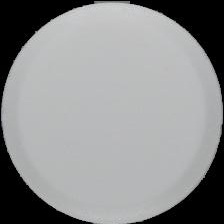60429-433: (0, 0, 224, 224)
